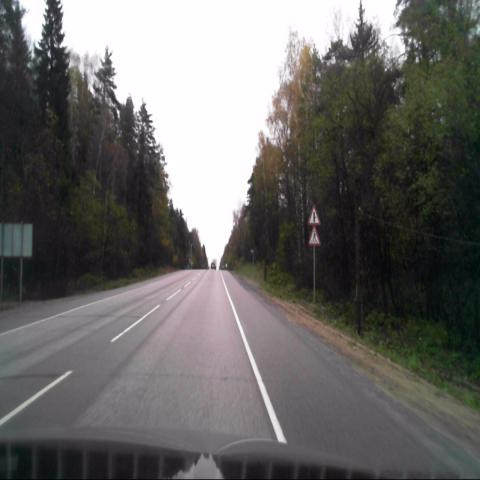2_3_2: (308, 205, 320, 224)
